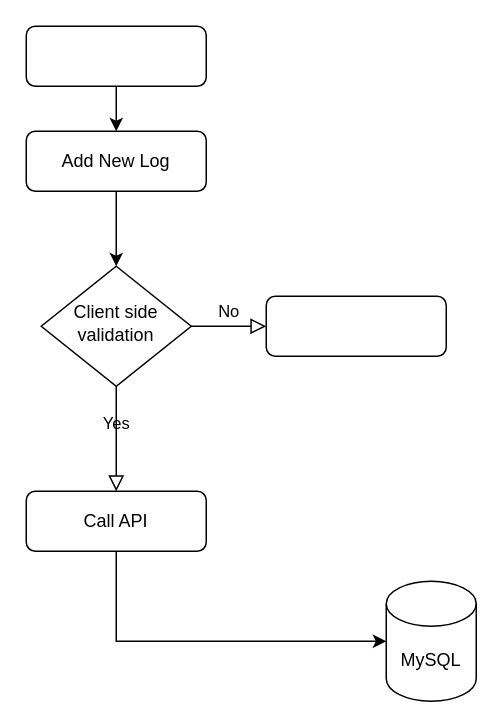
Image size: 503x728. Some labels were removed from this diagram. The shapes that lost their labels are listed below. From the top down, each one's centre as x and y in pixels, then its label:
At (x=115, y=55): "Log".
At (x=355, y=325): "Show the Error message".
